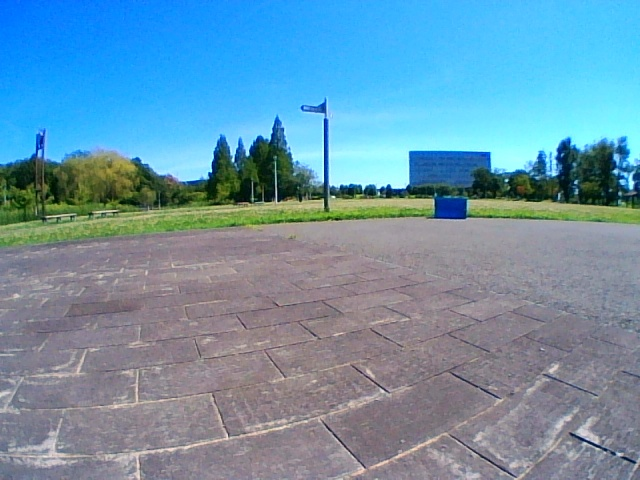blue_box: (435, 197, 467, 219)
